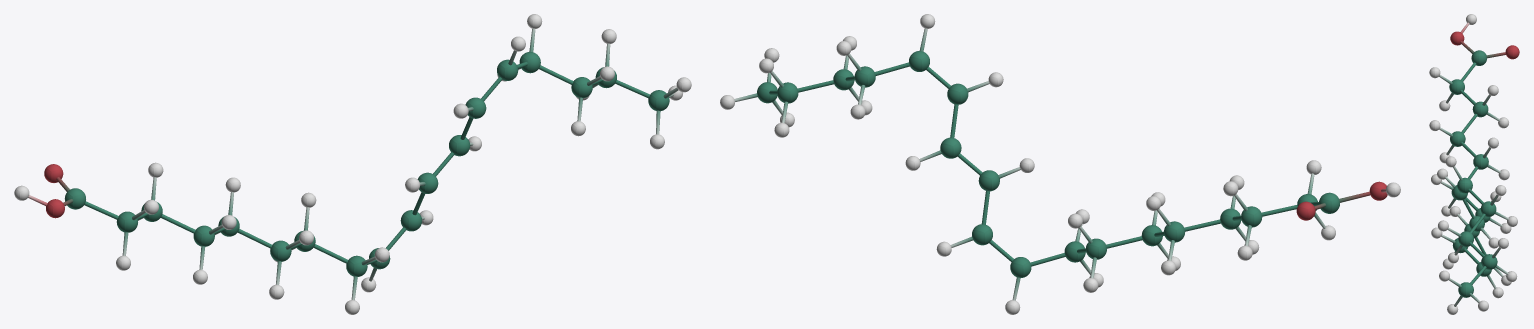
File: Puninic Acid.fbx
3 renders of one model, left to right at view 1: azimuth 30°, elevation 25°; view 2: azimuth 150°, elevation 25°; view 3: azimuth 270°, elevation 25°, orthographic. The views are drawn at different scales.
Visible parts, largest first — view 1: curMeshHyperballExportedMesh; view 2: curMeshHyperballExportedMesh; view 3: curMeshHyperballExportedMesh.
Part boxes in pixels (x1,y1,x2,y2): curMeshHyperballExportedMesh: (14,14,691,314); curMeshHyperballExportedMesh: (720,14,1400,314); curMeshHyperballExportedMesh: (1429,14,1519,314).
Size of the model in its own units: 20.6 by 7.27 by 3.25.
